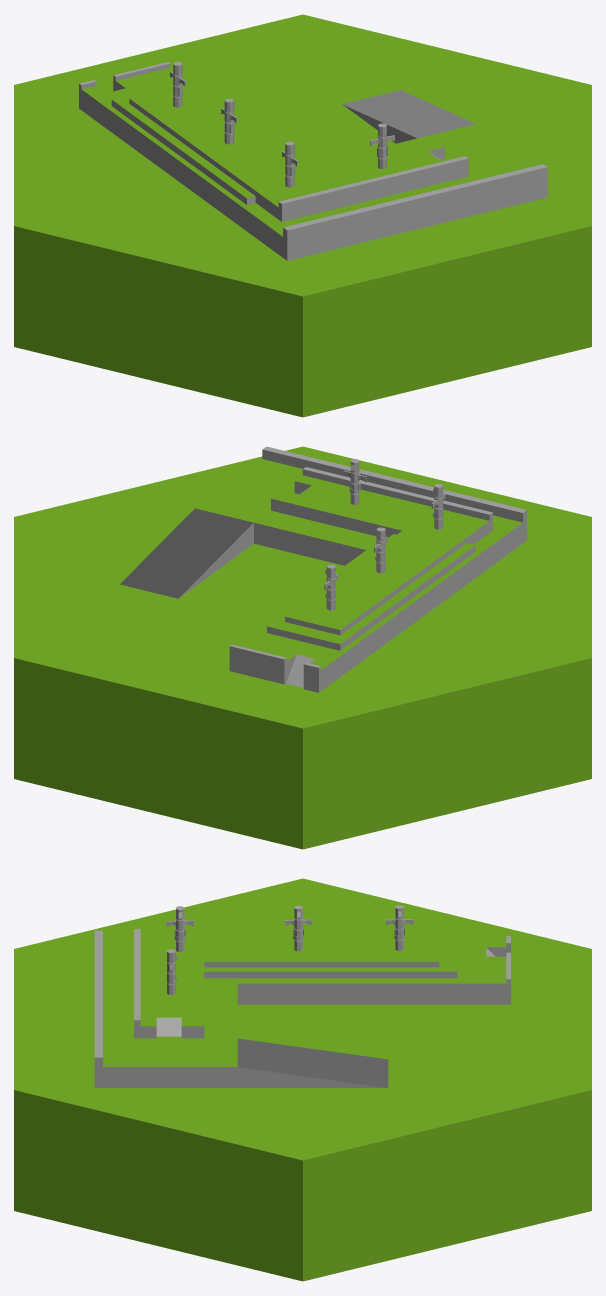
The model's file is Asentamiento_2.fbx.
3 renders of one model, top to bottom at view 1: azimuth 30°, elevation 25°; view 2: azimuth 150°, elevation 25°; view 3: azimuth 270°, elevation 25°, orthographic.
Visible parts, largest first — view 1: Asentamiento_02; view 2: Asentamiento_02; view 3: Asentamiento_02.
Boxes of the visible parts, box(x1,y1,x2,y2) form: Asentamiento_02: box(14, 14, 591, 417); Asentamiento_02: box(14, 446, 591, 849); Asentamiento_02: box(14, 878, 591, 1281).
Size of the model in its own units: 200 by 64.8 by 173.
1 material, 1 textured.
